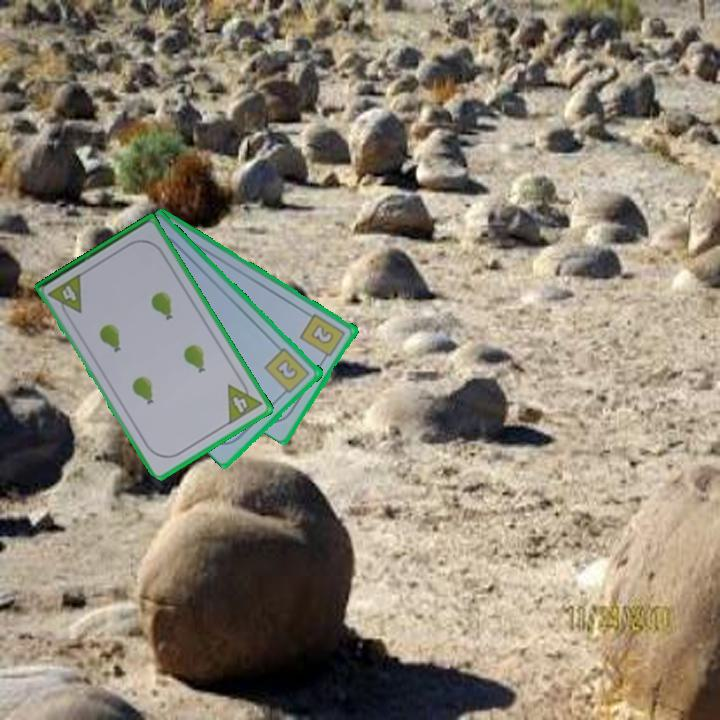2b: (261, 345, 313, 399), (297, 310, 348, 364)
4p: (224, 374, 265, 427), (45, 270, 85, 322)
